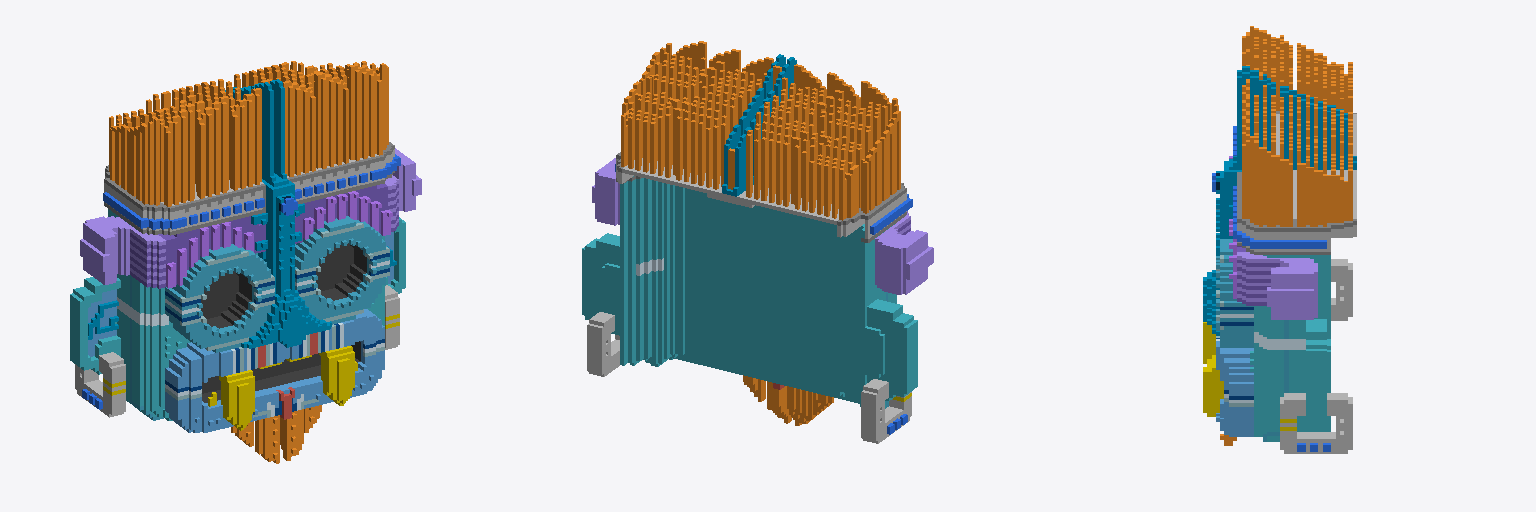
3 renders of one model, left to right at view 1: azimuth 30°, elevation 25°; view 2: azimuth 150°, elevation 25°; view 3: azimuth 270°, elevation 25°, orthographic.
Parts seen in each view (by area): view 1: Tlaloc_Boss; view 2: Tlaloc_Boss; view 3: Tlaloc_Boss.
Part boxes in pixels (x1,y1,x2,y2): Tlaloc_Boss: (70,61,421,463); Tlaloc_Boss: (582,41,933,443); Tlaloc_Boss: (1203,26,1356,453).
Size of the model in its own units: 8.8 by 9.6 by 3.6.
1 materials, 1 textured.